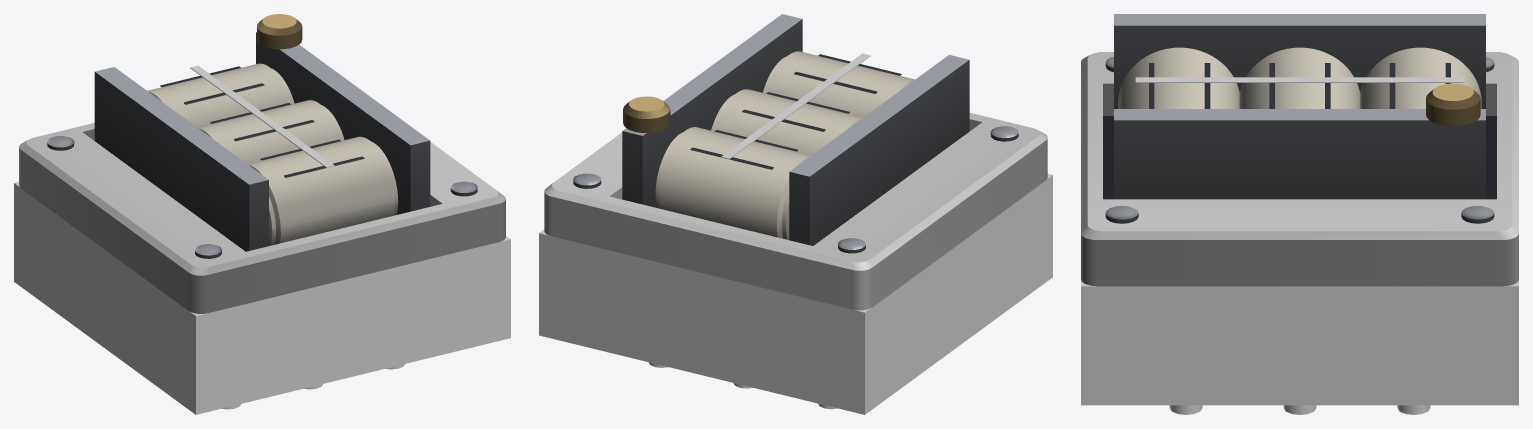
File: part_counter.glb
The picture shows the model from 3 angles, left to right: view 1: azimuth 30°, elevation 25°; view 2: azimuth 150°, elevation 25°; view 3: azimuth 270°, elevation 25°; orthographic projection. The views are drawn at different scales.
Visible parts, largest first — view 1: Gehaeuse, Korpus, Plattform, Licht; view 2: Gehaeuse, Korpus, Plattform, Licht; view 3: Korpus, Gehaeuse, Plattform, Licht, Stecker.
Part boxes in pixels (x1,y1,x2,y2): Gehaeuse: [14, 182, 510, 414]; Korpus: [47, 14, 477, 258]; Plattform: [19, 123, 505, 313]; Licht: [190, 65, 334, 167]; Gehaeuse: [539, 174, 1052, 414]; Korpus: [573, 14, 1018, 253]; Plattform: [544, 113, 1047, 310]; Licht: [721, 53, 870, 159]; Korpus: [1103, 14, 1496, 223]; Gehaeuse: [1081, 280, 1518, 405]; Plattform: [1081, 52, 1518, 286]; Licht: [1135, 77, 1464, 82]; Stecker: [1169, 405, 1430, 414].
Size of the model in its own units: 0.8 by 0.635 by 0.8.
